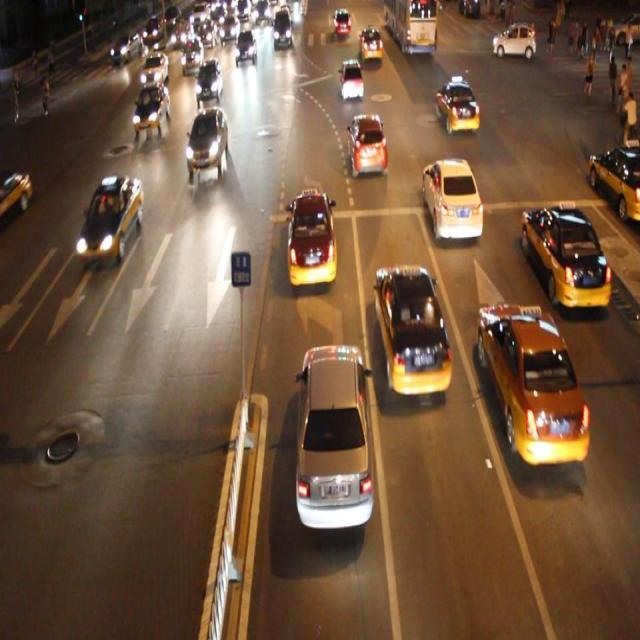car: (474, 298, 586, 463), (295, 342, 373, 531), (372, 260, 449, 394), (520, 200, 612, 312), (79, 174, 142, 264), (422, 160, 483, 242), (285, 188, 336, 284), (587, 140, 640, 218), (347, 111, 388, 178), (188, 108, 227, 169), (436, 79, 479, 133), (134, 82, 170, 132), (1, 165, 31, 222), (338, 59, 363, 100), (195, 60, 220, 100), (359, 26, 384, 62), (140, 52, 168, 84), (180, 41, 204, 74)
